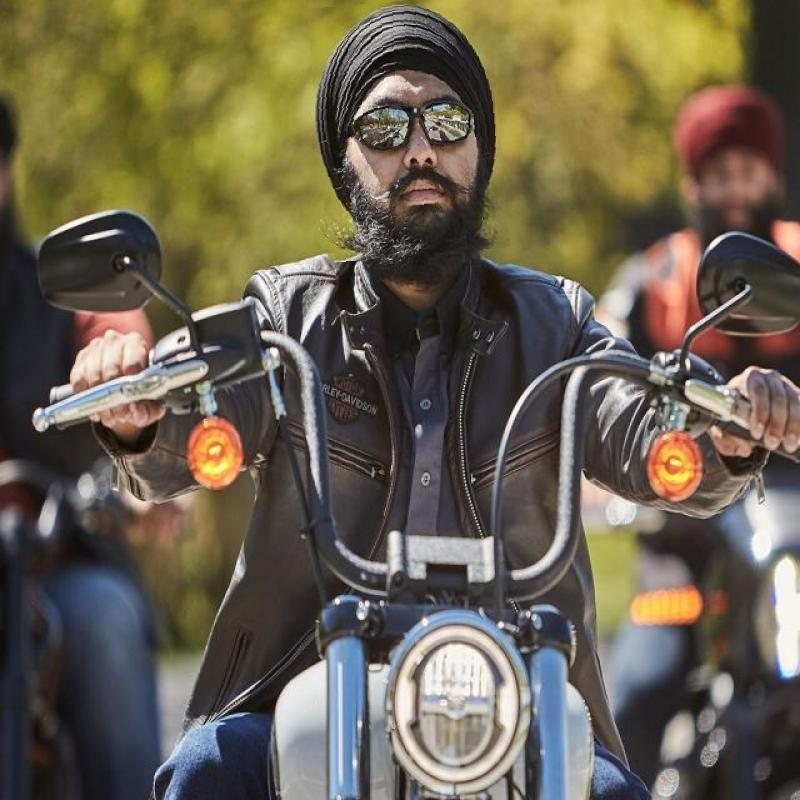nohelmet: (312, 0, 505, 258)
